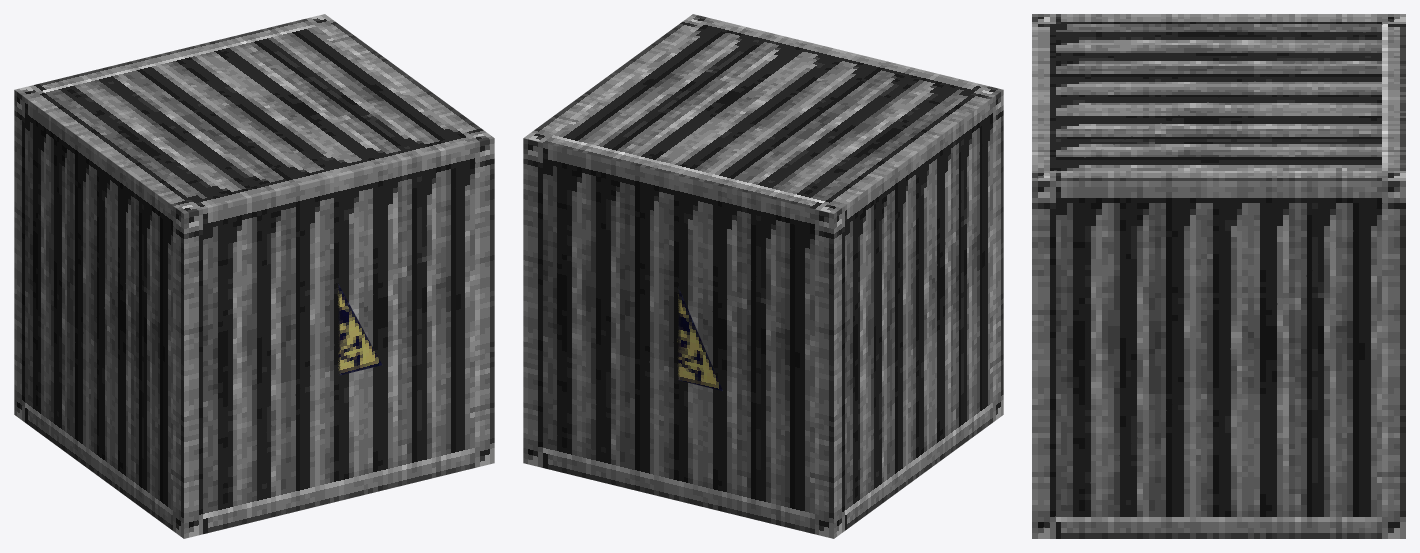
Rendered from primary_104.glb.
The picture shows the model from 3 angles, left to right: view 1: azimuth 30°, elevation 25°; view 2: azimuth 150°, elevation 25°; view 3: azimuth 270°, elevation 25°; orthographic projection. The views are drawn at different scales.
Parts seen in each view (by area): view 1: Object; view 2: Object; view 3: Object.
Boxes of the visible parts, x1,y1,x2,y2 form: Object: [14, 14, 494, 538]; Object: [523, 14, 1003, 538]; Object: [1032, 14, 1405, 538].
Size of the model in its own units: 0.935 by 0.935 by 0.8845.
2 materials, 2 textured.
